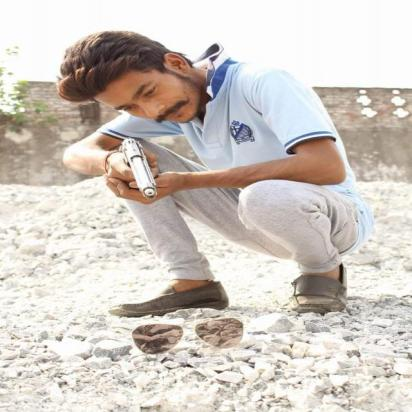Gun: (114, 134, 164, 203)
